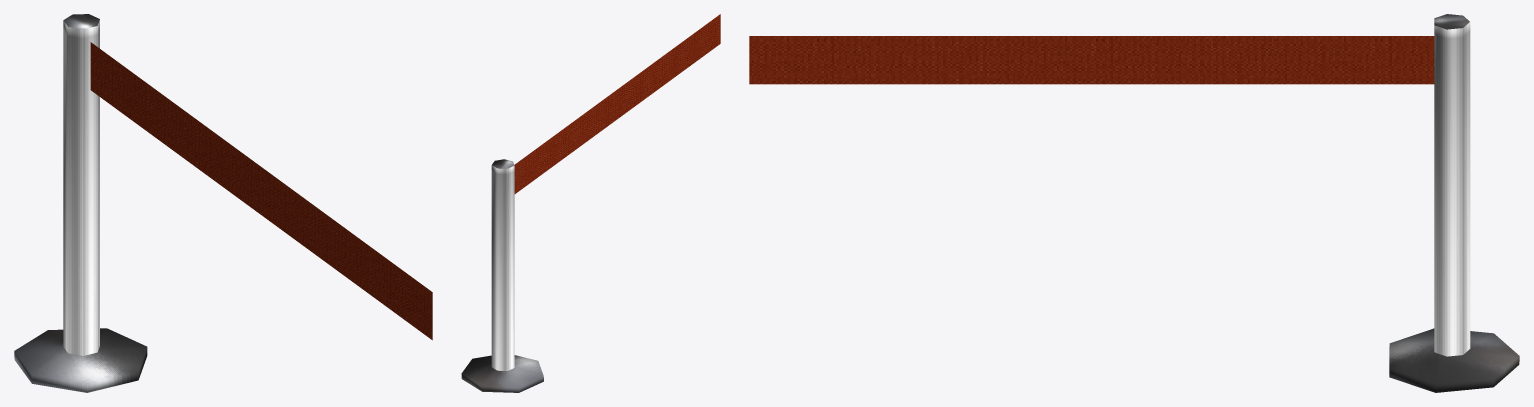
The model's file is CinemaPoleWithRope.glb.
3 renders of one model, left to right at view 1: azimuth 30°, elevation 25°; view 2: azimuth 150°, elevation 25°; view 3: azimuth 270°, elevation 25°, orthographic. The views are drawn at different scales.
Parts seen in each view (by area): view 1: PoleWithRope; view 2: PoleWithRope; view 3: PoleWithRope.
Part boxes in pixels (x1,y1,x2,y2): PoleWithRope: (14,14,432,392); PoleWithRope: (461,14,720,392); PoleWithRope: (749,14,1519,392).
Bounding box in the file's own units: 0.4426 × 1.25 × 2.55.
Materials: 1 (1 with a texture image).
